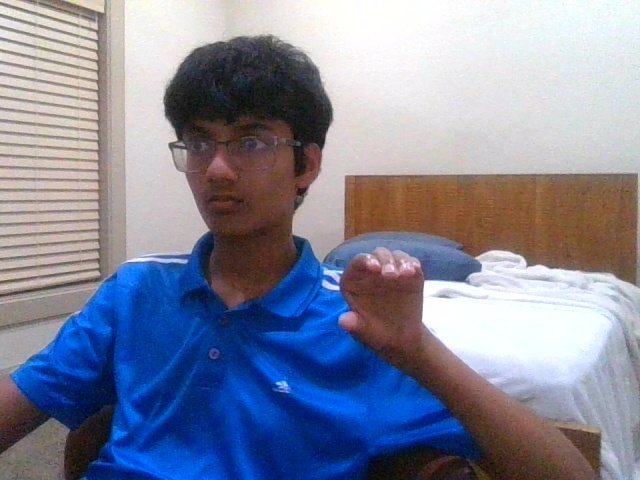no: (340, 246, 426, 349)
